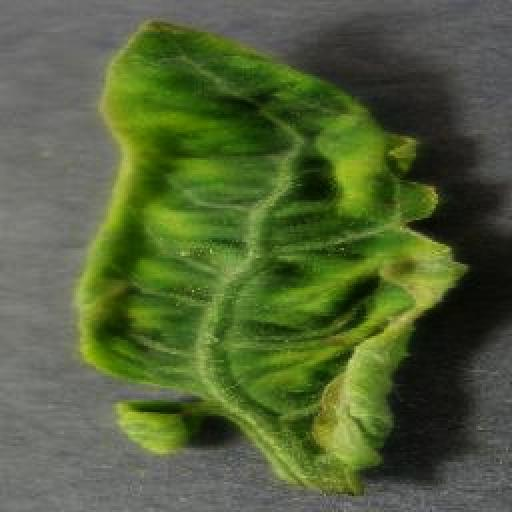disease_tomato: (84, 14, 474, 496)
